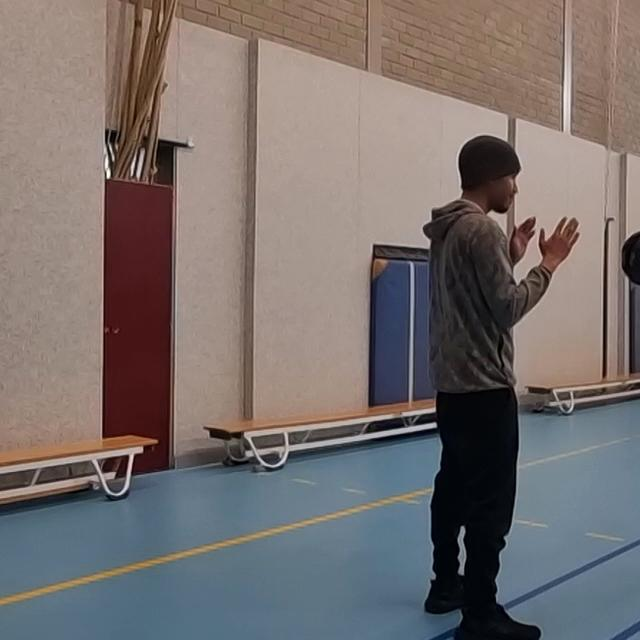paddle: (615, 229, 640, 294)
